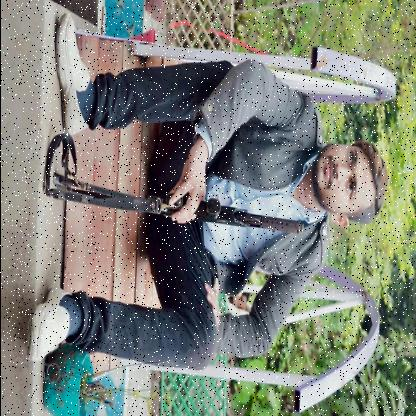rifle: (50, 169, 304, 237)
